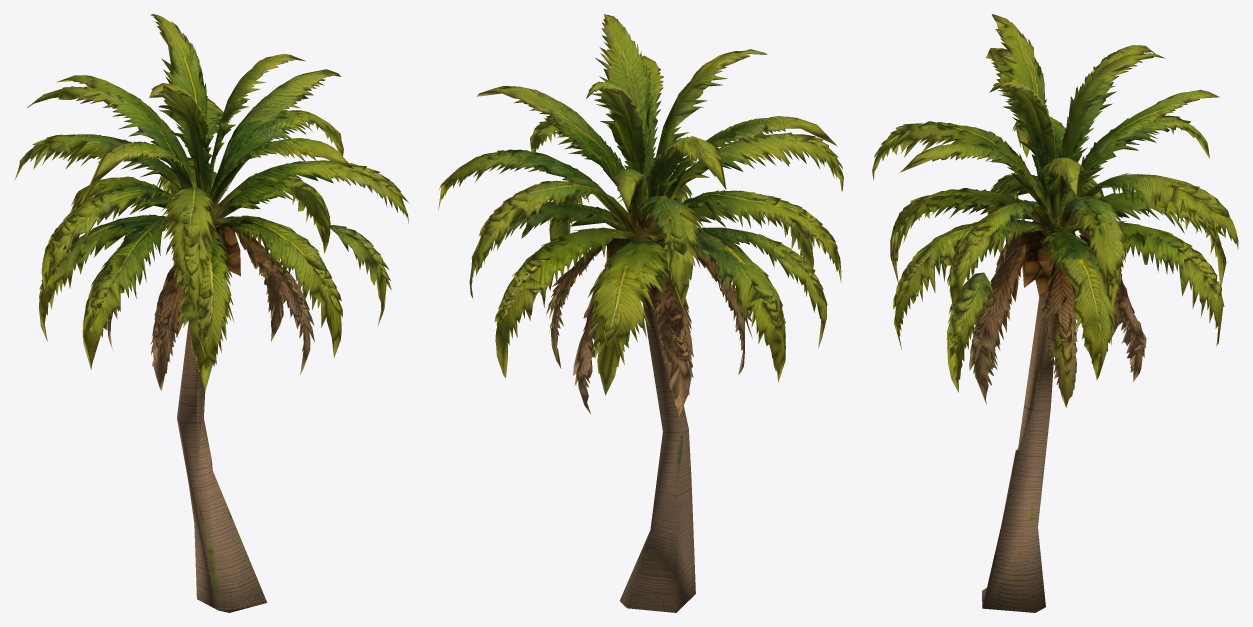
The model's file is palm_v2_mobile.glb.
3 renders of one model, left to right at view 1: azimuth 30°, elevation 25°; view 2: azimuth 150°, elevation 25°; view 3: azimuth 270°, elevation 25°, orthographic. The views are drawn at different scales.
Parts seen in each view (by area): view 1: node_0; view 2: node_0; view 3: node_0.
Part boxes in pixels (x1,y1,x2,y2): node_0: [14, 14, 408, 612]; node_0: [438, 14, 843, 612]; node_0: [872, 14, 1238, 612].
Size of the model in its own units: 0.7529 by 1.13 by 0.6905.
1 material, 1 textured.
